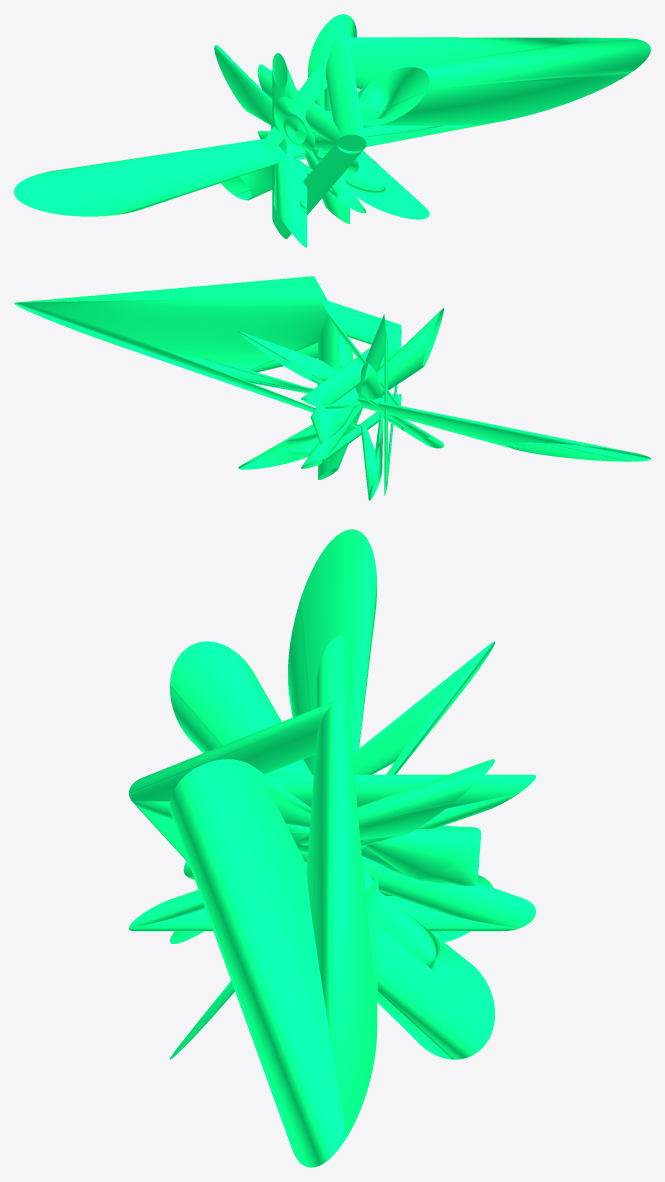
The model's file is sixhundred_cell_ar_universal.glb.
The picture shows the model from 3 angles, top to bottom: view 1: azimuth 30°, elevation 25°; view 2: azimuth 150°, elevation 25°; view 3: azimuth 270°, elevation 25°; orthographic projection. The views are drawn at different scales.
Visible parts, largest first — view 1: sixhundred_cell_ar; view 2: sixhundred_cell_ar; view 3: sixhundred_cell_ar.
Part boxes in pixels (left/top/right/bottom): sixhundred_cell_ar: left=14, top=14, right=650, bottom=247; sixhundred_cell_ar: left=14, top=276, right=650, bottom=500; sixhundred_cell_ar: left=129, top=529, right=535, bottom=1167.
Bounding box in the file's own units: 1 × 0.2775 × 0.2786.
